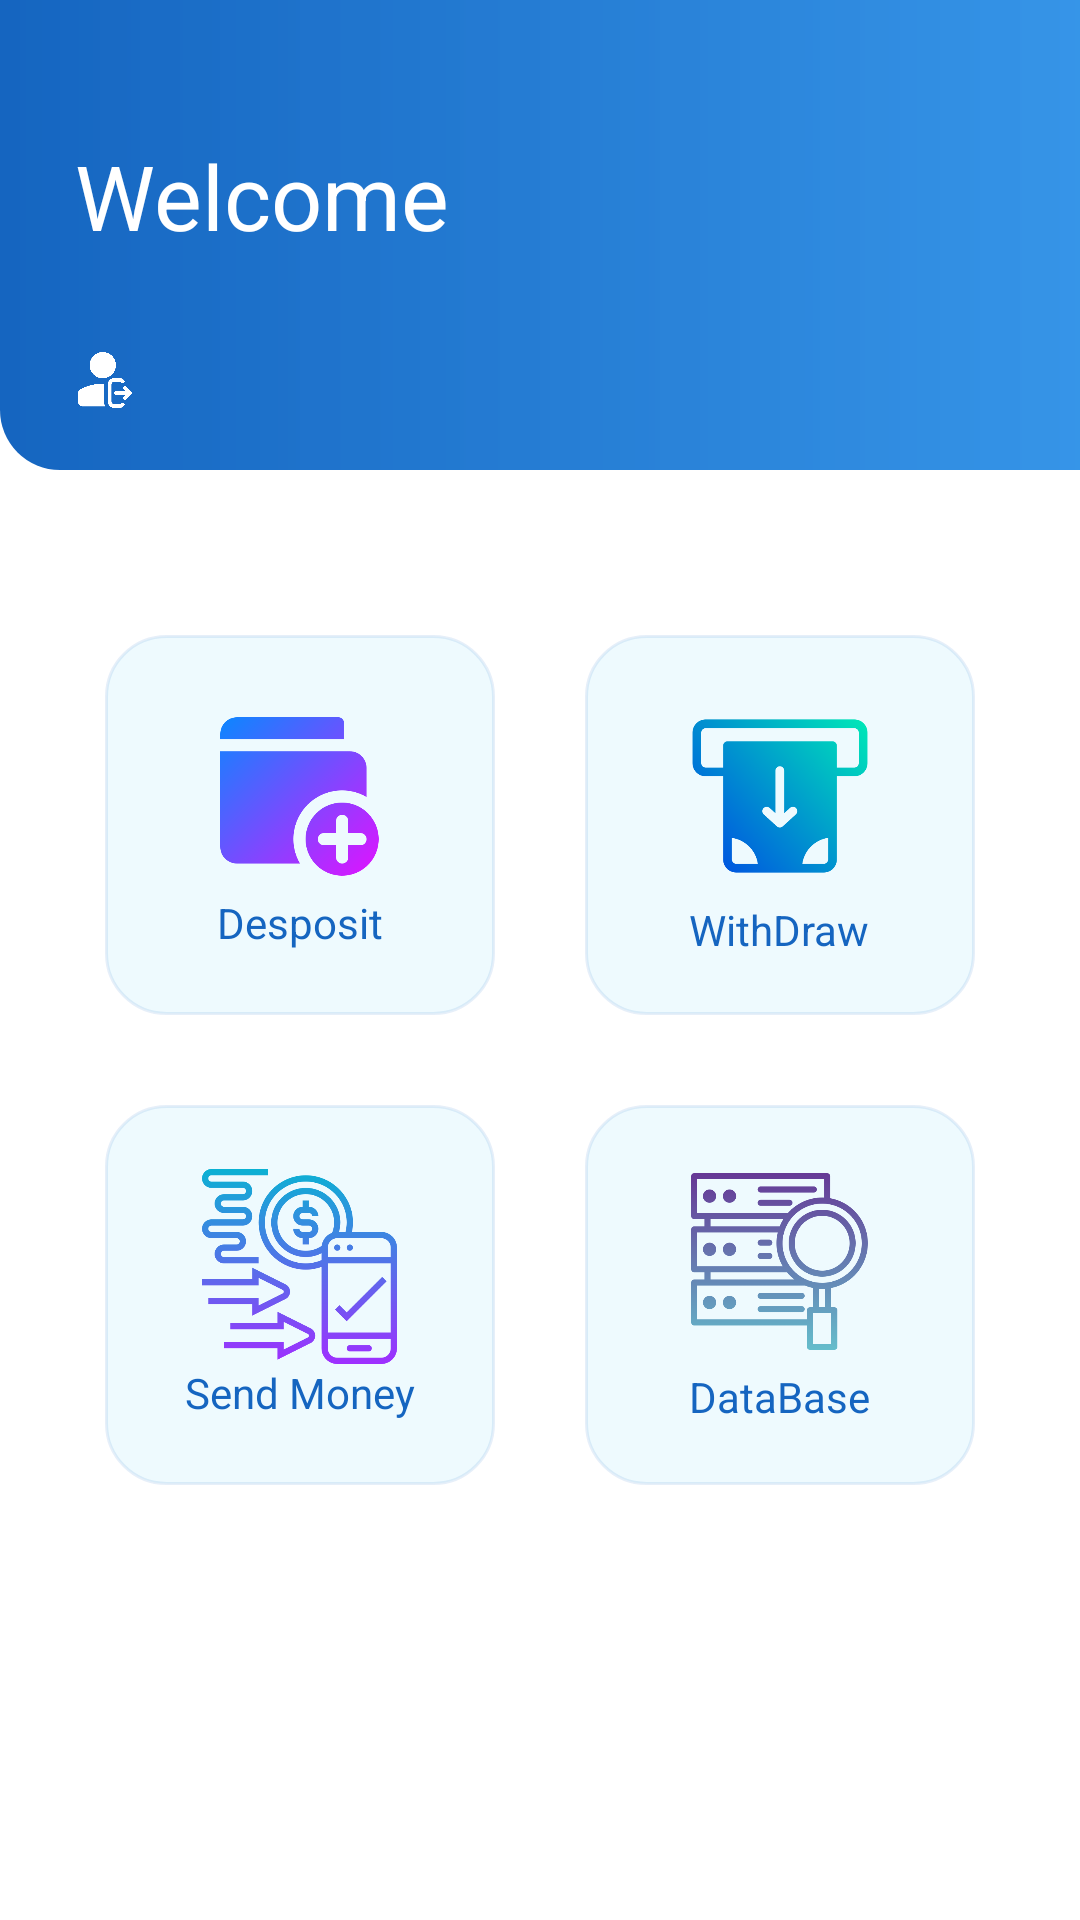

Icons on this 1080px x 1920px Android screen, each with the point to tap as [x,y]:
wallet: [299,796]
